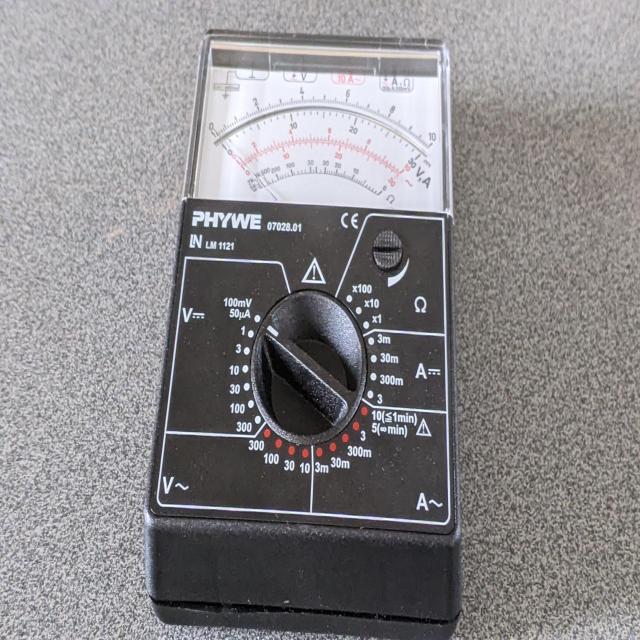Analog Multimeter: (139, 11, 474, 638)
